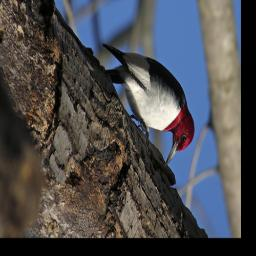Woodpecker: (96, 41, 200, 170)
